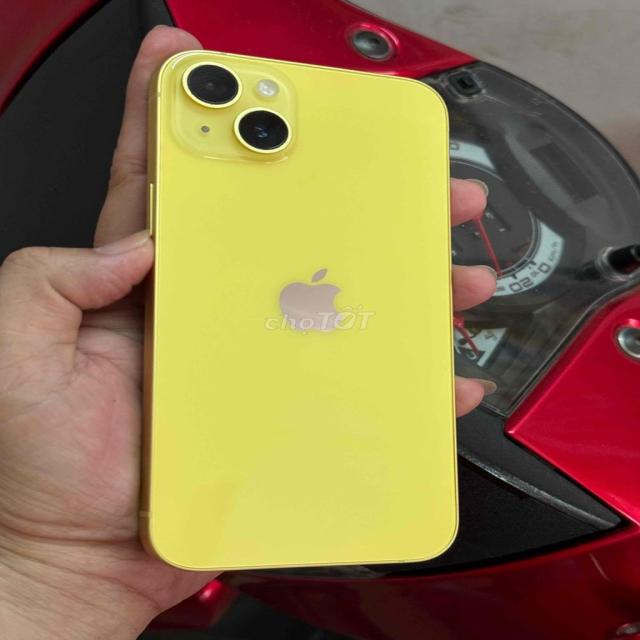gen_14: (129, 41, 475, 568)
